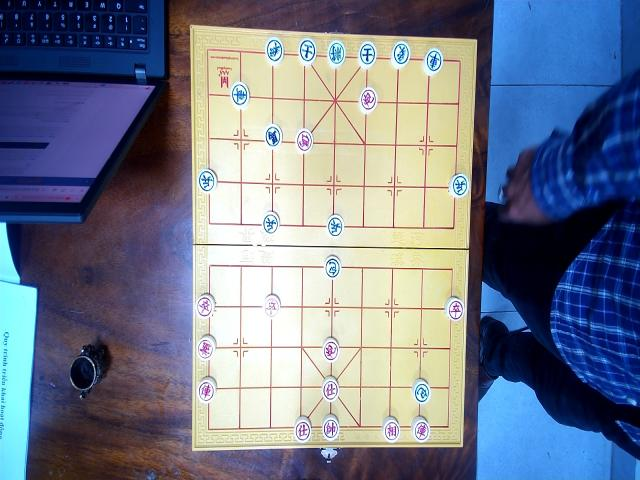piece: (448, 171, 469, 199), (422, 48, 442, 76), (197, 377, 217, 404), (410, 415, 430, 442), (196, 335, 216, 362), (358, 87, 378, 114), (390, 41, 410, 68), (326, 40, 346, 67), (265, 36, 284, 64), (294, 415, 312, 444), (382, 415, 401, 442), (411, 378, 430, 405), (295, 127, 314, 154), (298, 36, 316, 64), (444, 296, 464, 321), (195, 292, 214, 318), (322, 414, 340, 441), (322, 337, 340, 364), (230, 82, 248, 109), (358, 42, 376, 68), (263, 124, 281, 150), (198, 167, 216, 192), (321, 376, 338, 402), (326, 214, 344, 238), (262, 211, 280, 235), (263, 293, 280, 318), (324, 254, 341, 278)
